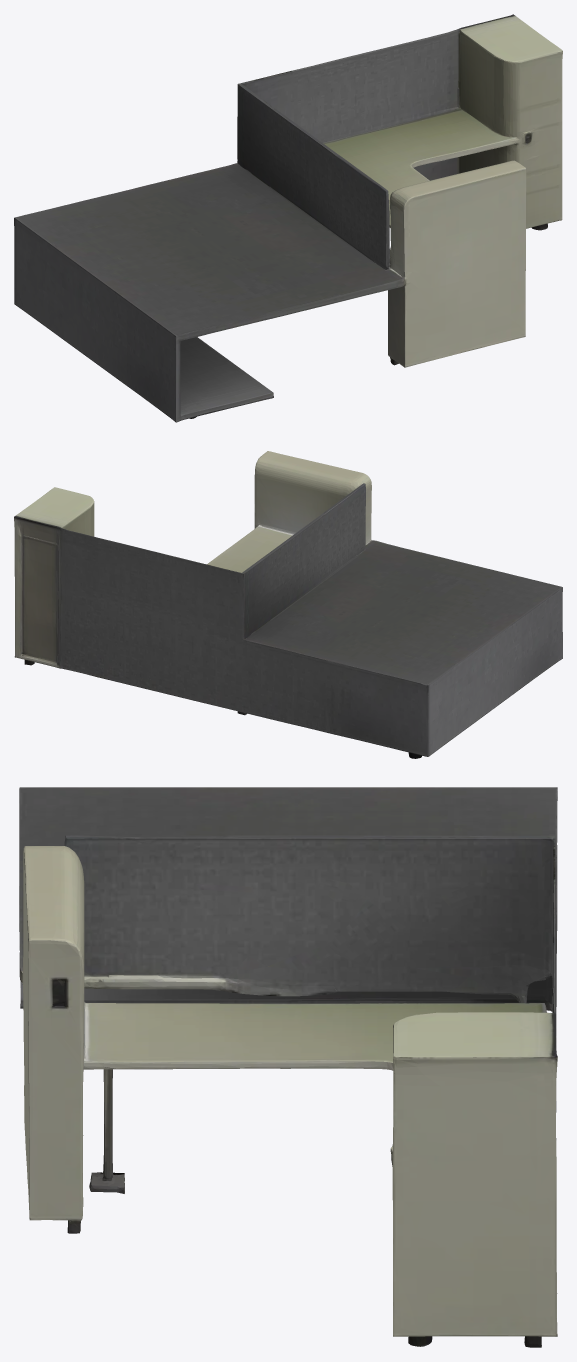
Rendered from 1e2b1c15-3907-459f-adc5-143f011aec4e.glb.
3 views of the same model, one above another, from view 1: azimuth 30°, elevation 25°; view 2: azimuth 150°, elevation 25°; view 3: azimuth 270°, elevation 25° (orthographic). The views are drawn at different scales.
Parts seen in each view (by area): view 1: world; view 2: world; view 3: world.
Boxes of the visible parts, <box> form: world: <box>14,14,562,422</box>; world: <box>14,451,562,758</box>; world: <box>19,787,557,1347</box>.
Size of the model in its own units: 0.9977 by 0.3423 by 0.5605.
1 material, 1 textured.
